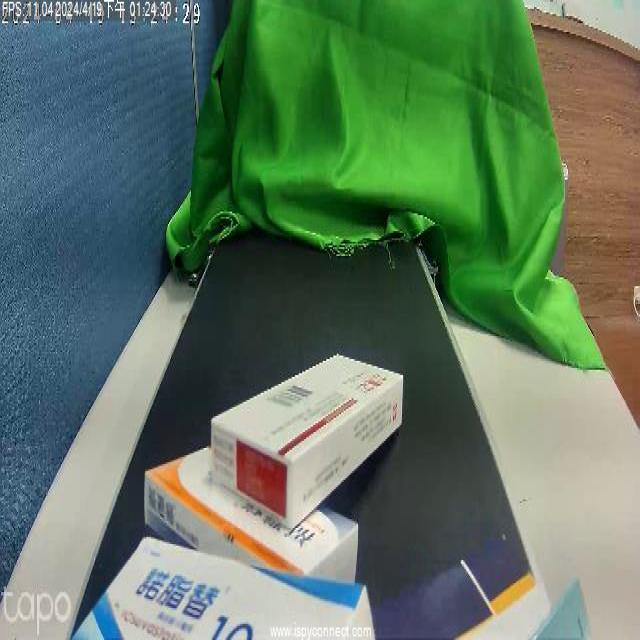box: (232, 352, 398, 506), (132, 449, 338, 572), (88, 567, 336, 640)
